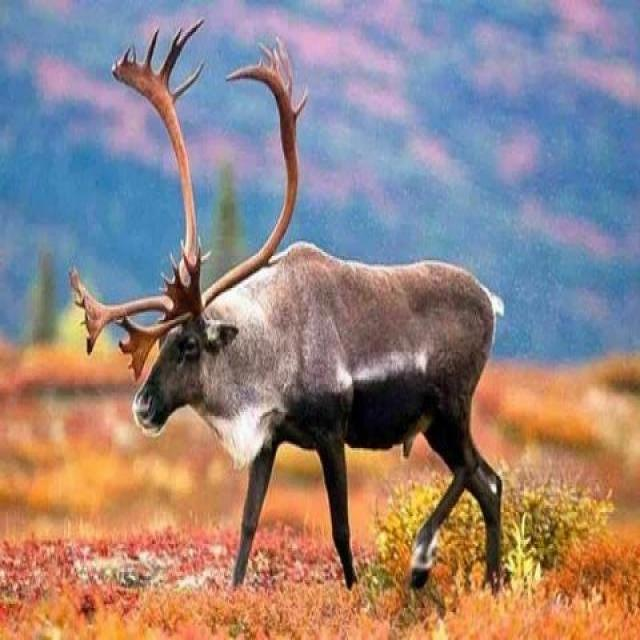deer: (81, 77, 504, 619)
